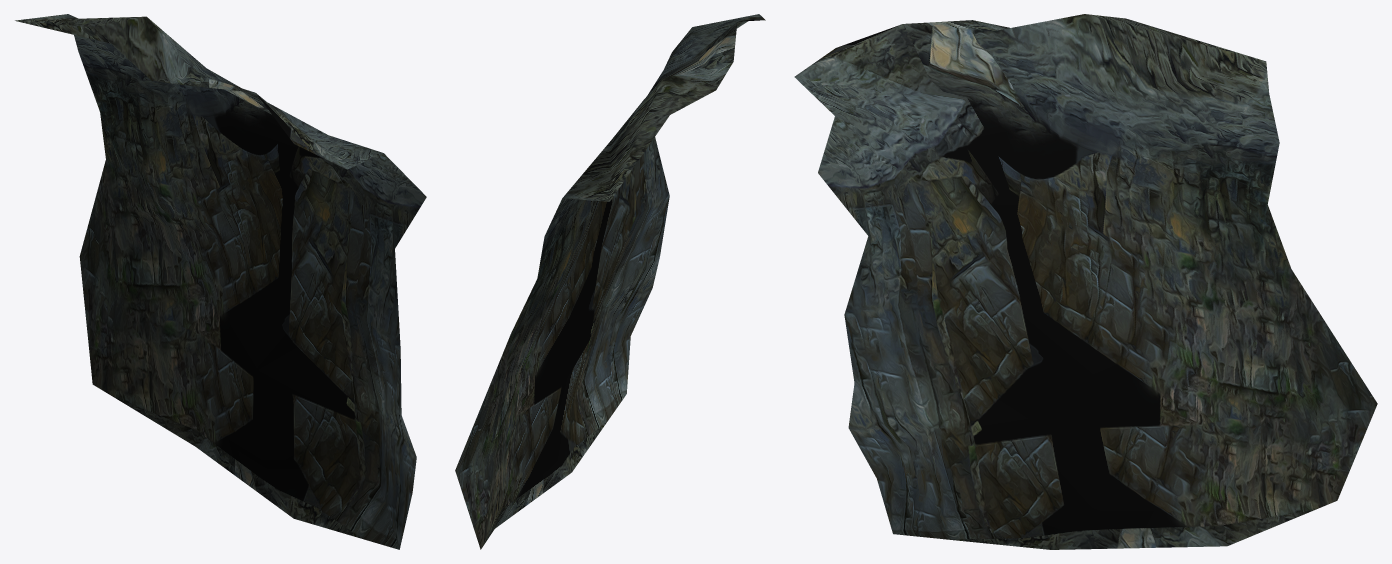
The model's file is Maincity_Cover.FBX.
The picture shows the model from 3 angles, left to right: view 1: azimuth 30°, elevation 25°; view 2: azimuth 150°, elevation 25°; view 3: azimuth 270°, elevation 25°; orthographic projection. The views are drawn at different scales.
Visible parts, largest first — view 1: lightcover; view 2: lightcover; view 3: lightcover.
Boxes of the visible parts, bbox=[...] form: lightcover: bbox=[15, 14, 426, 549]; lightcover: bbox=[455, 14, 765, 549]; lightcover: bbox=[794, 14, 1377, 549].
Bounding box in the file's own units: 18281 × 45501 × 50319.
